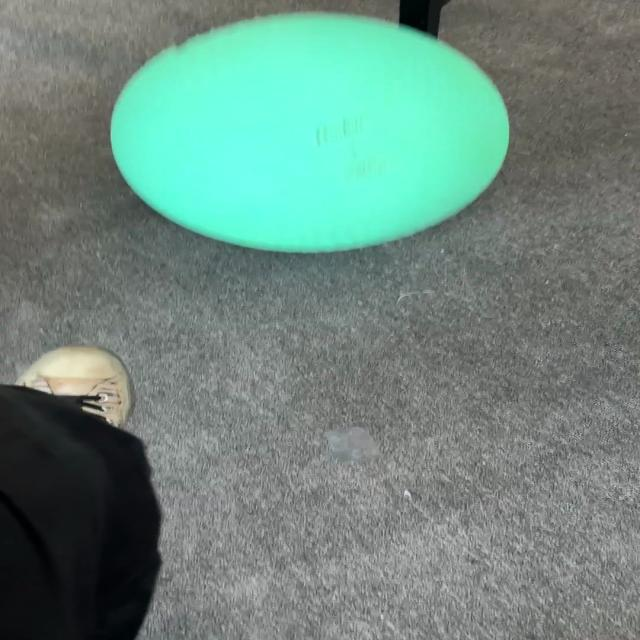Algae: (108, 11, 511, 254)
